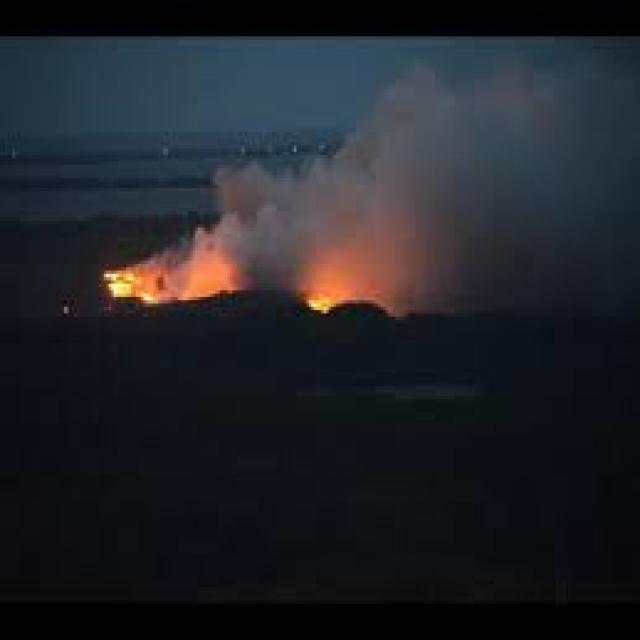Fire: (70, 201, 415, 338)
Smoke: (419, 76, 615, 330)
